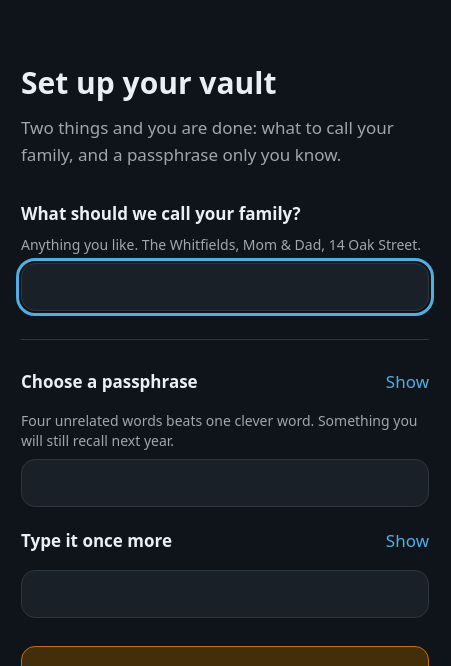
setting up a vault › persists the keys before showing the recovery kit
Type "Whitfield" into the field labelled "What should we call your family?" at (225, 287), box left=21, top=263, right=429, bottom=311
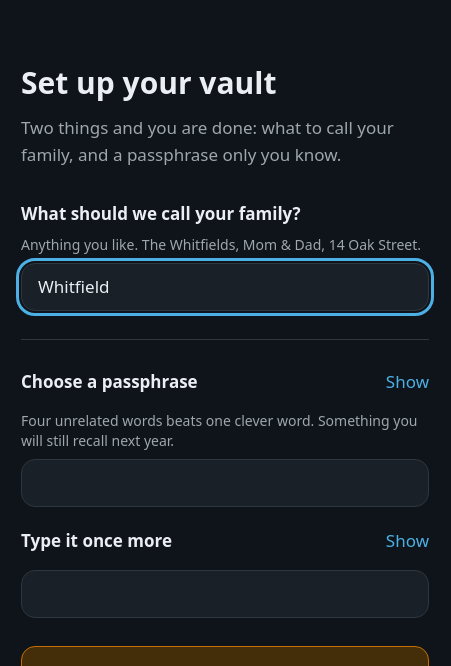
Type "the right passphrase" into the password field named "Choose a passphrase" at (225, 483), box left=21, top=459, right=429, bottom=507
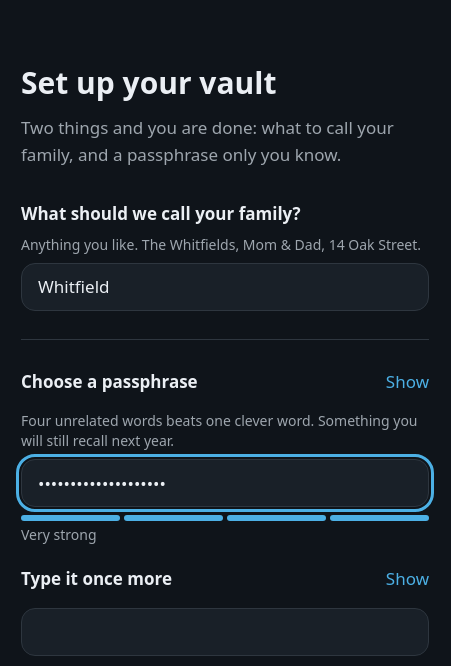
Type "the right passphrase" into the password field named "Type it once more" at (225, 632), box left=21, top=608, right=429, bottom=656
(page scrolled)
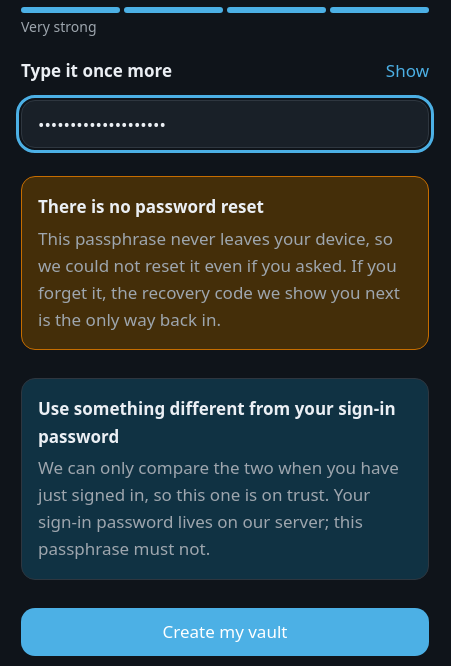
Click the button "Create my vault" at (225, 632), box left=21, top=608, right=429, bottom=656
(page scrolled)
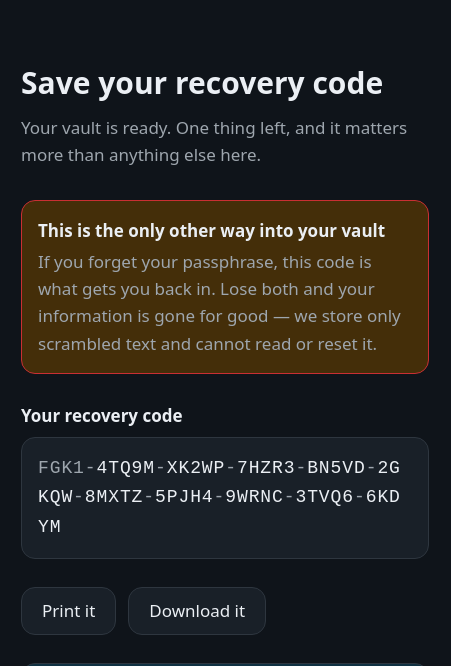
Check: the text "This is the only other way into your vault" is shown, box left=38, top=217, right=412, bottom=244
